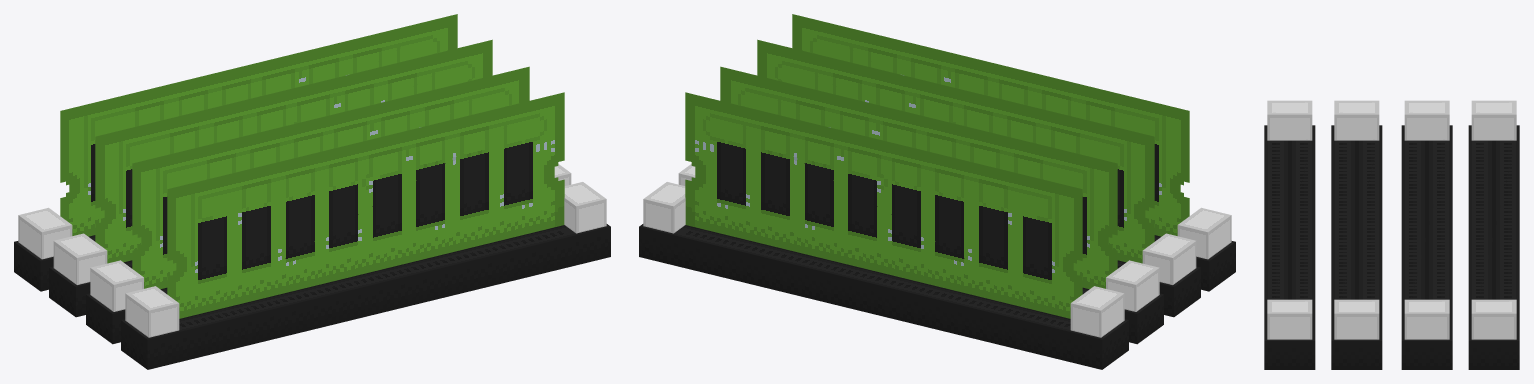
Rendered from memory.c49cef8e.glb.
3 renders of one model, left to right at view 1: azimuth 30°, elevation 25°; view 2: azimuth 150°, elevation 25°; view 3: azimuth 270°, elevation 25°, orthographic. The views are drawn at different scales.
Visible parts, largest first — view 1: Cube.002, Cube.001, Cube, Cube.003; view 2: Cube.003, Cube, Cube.001, Cube.002; view 3: Cube, Cube.001, Cube.002, Cube.003.
Part boxes in pixels (x1,y1,x2,y2): Cube.002: (121,92,610,369); Cube.001: (49,39,492,317); Cube: (86,66,571,344); Cube.003: (14,14,457,291); Cube.003: (639,92,1128,369); Cube: (757,39,1200,317); Cube.001: (678,66,1163,344); Cube.002: (792,14,1235,291); Cube: (1331,100,1382,369); Cube.001: (1401,100,1452,369); Cube.002: (1264,100,1315,369); Cube.003: (1468,100,1519,369).
Size of the model in its own units: 8 by 2.69 by 4.
Materials: 4 (4 with a texture image).
